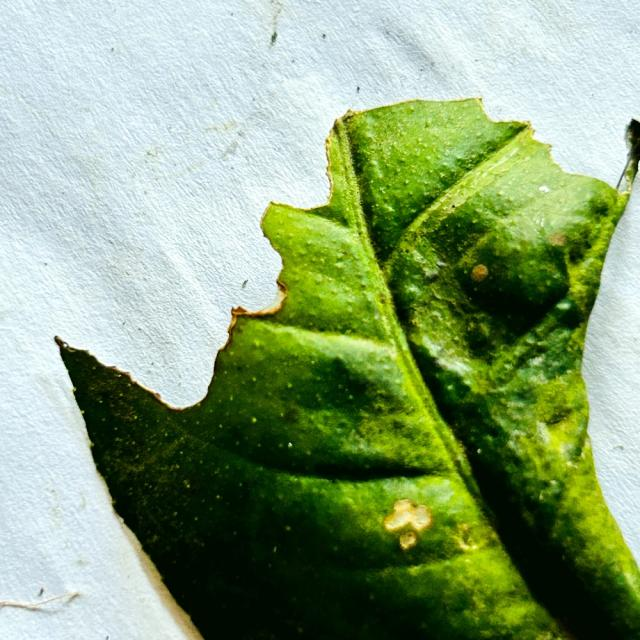Deficiency Leaf: (47, 40, 628, 405)
Lemon: (56, 99, 639, 639)
